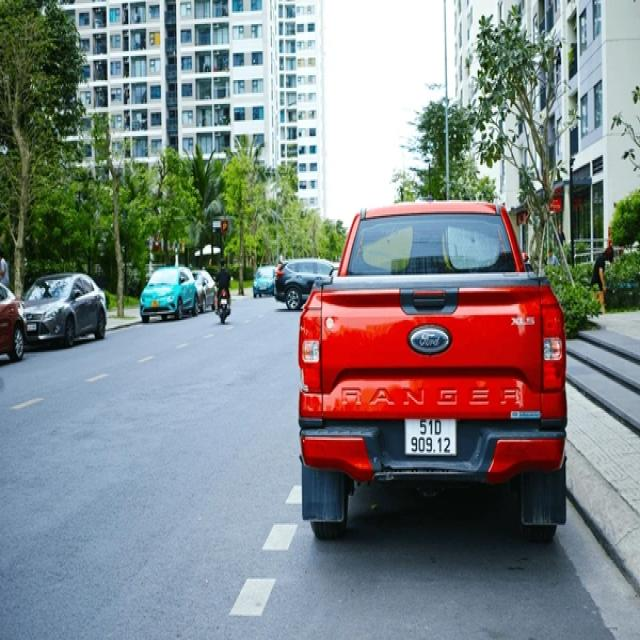ford: (410, 325, 453, 361)
